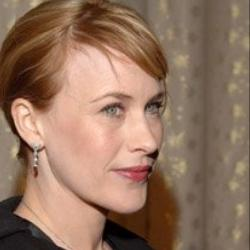face: (1, 2, 187, 237)
